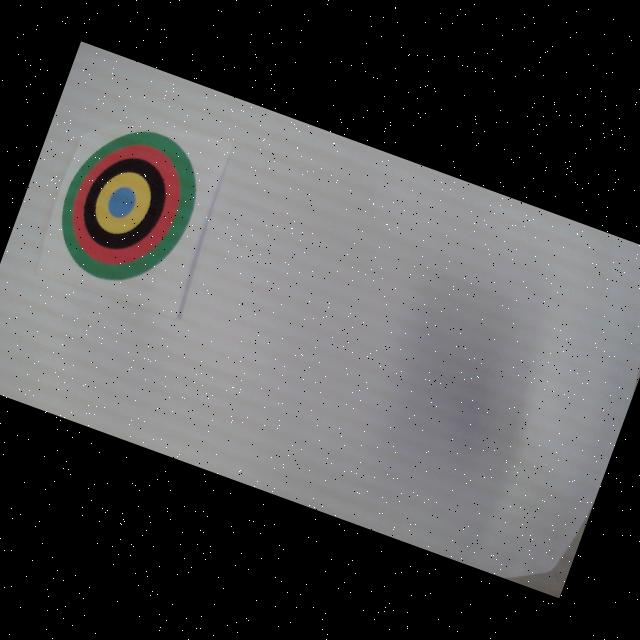COGNITIVE: (41, 109, 216, 302)
